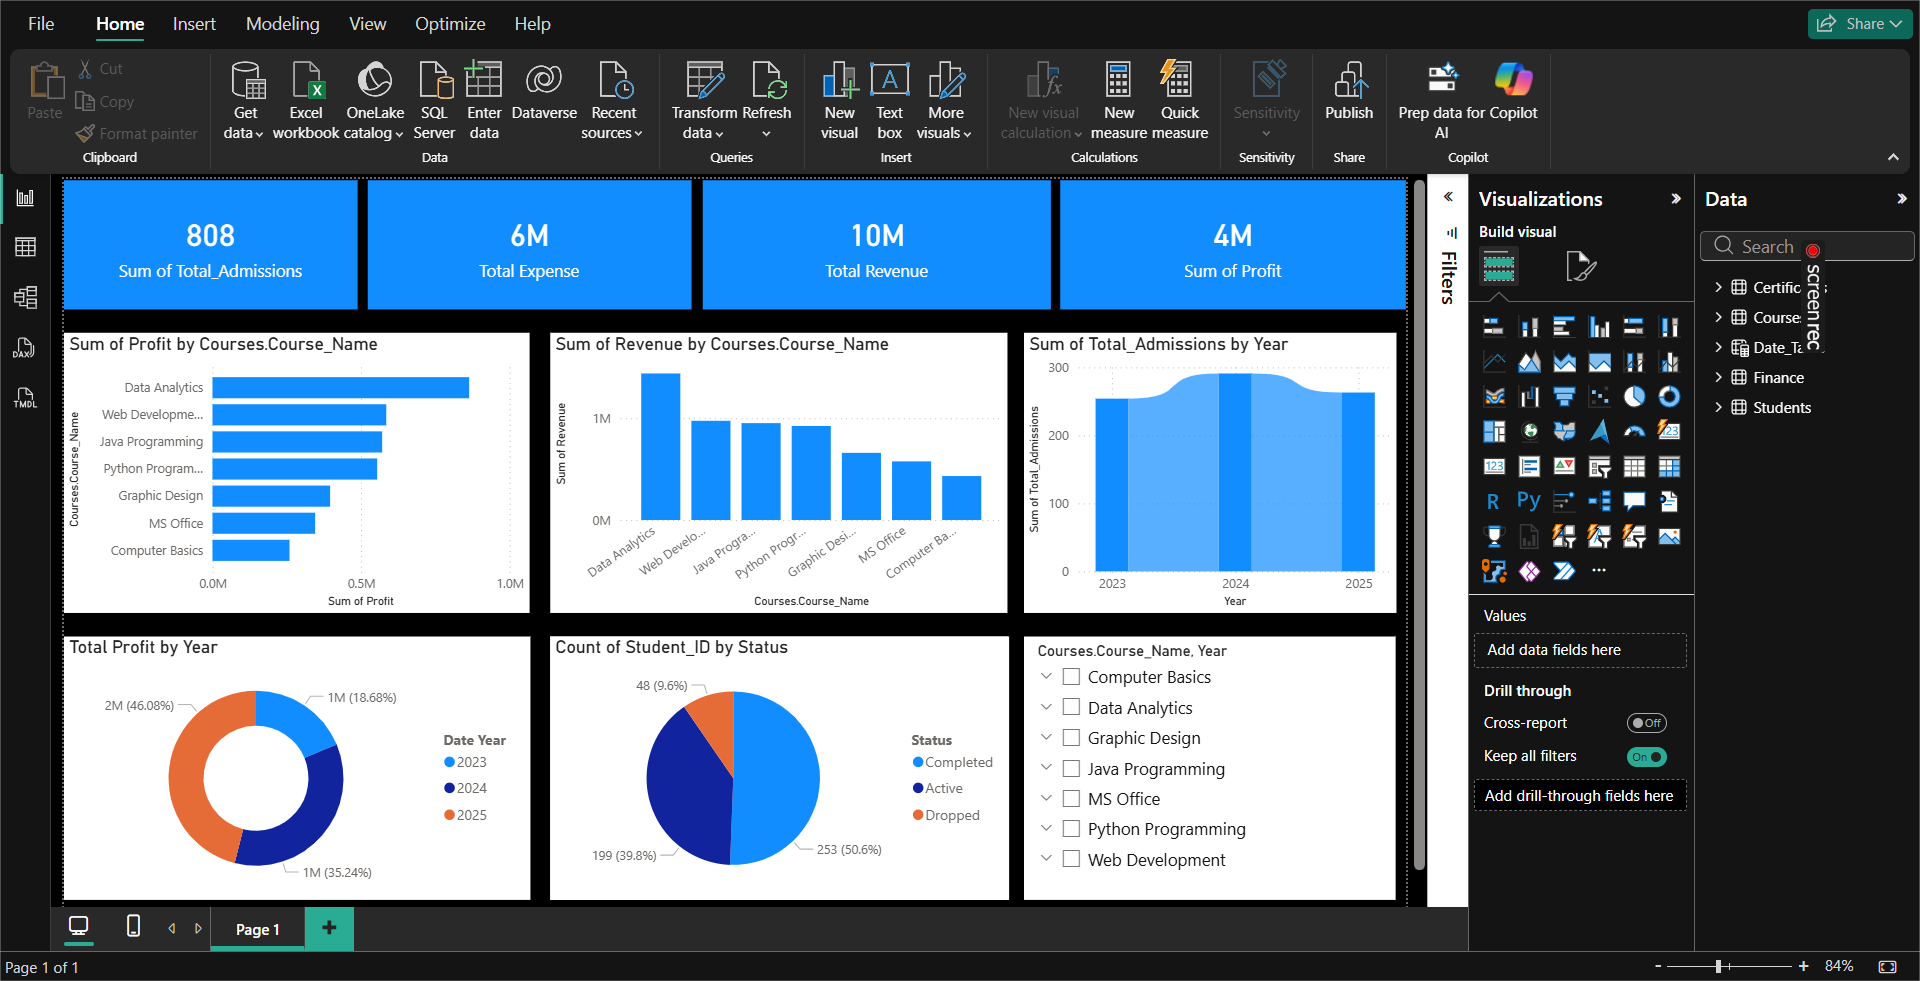

Layout of this report page (visuals, bound fields, positions):
{"tool":"powerbi","page":{"name":"Page 1","canvas":[1280,720],"ordinal":0},"visuals":[{"type":"card","fields":{"Values":["Sum(Finance.Total_Admissions)"]},"box":[0,0,279.9,123.5],"z":0},{"type":"card","fields":{"Values":["Certificates.Total Expense"]},"box":[289.5,0,308.7,123.5],"z":1000},{"type":"card","fields":{"Values":["Certificates.Total Revenue"]},"box":[609.3,0,332.1,123.5],"z":2000},{"type":"card","fields":{"Values":["Sum(Students.Profit)"]},"box":[950.9,0,329.3,123.5],"z":3000},{"type":"clusteredBarChart","fields":{"Category":["Students.Courses.Course_Name"],"Y":["Sum(Students.Profit)"]},"box":[0,146.8,444.1,267.5],"z":4000},{"type":"clusteredColumnChart","fields":{"Category":["Students.Courses.Course_Name"],"Y":["Sum(Students.Revenue )"]},"box":[463.8,146.8,436.4,267.6],"z":5000},{"type":"ribbonChart","fields":{"Y":["Sum(Finance.Total_Admissions)"],"Category":["Date_Table.Date.Variation.Date Hierarchy.Year"]},"box":[915.3,146.8,355.4,267.6],"z":6000},{"type":"slicer","fields":{"Values":["Students.Courses.Course_Name","Date_Table.Date.Variation.Date Hierarchy.Year"]},"box":[915.6,436.6,354.5,278.6],"z":7000},{"type":"areaChart","fields":{"Category":["Students.Gender"],"Y":["Sum(Students.Revenue)"]},"box":[463.8,436.4,436.4,267.6],"z":8000},{"type":"donutChart","fields":{"Category":["Date_Table.Date.Variation.Date Hierarchy.Year","Date_Table.Date.Variation.Date Hierarchy.Quarter","Date_Table.Date.Variation.Date Hierarchy.Month","Date_Table.Date.Variation.Date Hierarchy.Day"],"Y":["Certificates.Total Profit"]},"box":[0,436.4,444.6,267.6],"z":9000},{"type":"pieChart","fields":{"Category":["Students.Status"],"Y":["CountNonNull(Students.Student_ID)"]},"box":[464,436.6,436.6,272.4],"z":10000}]}

Visuals, with their boxes on the page's 1280x720 design canvas (x1, y1, x2, y2). These are canvas units, not pixel positions in the 1920x981 screenshot, which may show the page scaled, cropped or inside an application window:
card - Sum(Finance.Total_Admissions): <box>0,0,280,124</box>
card - Certificates.Total Expense: <box>290,0,598,124</box>
card - Certificates.Total Revenue: <box>609,0,941,124</box>
card - Sum(Students.Profit): <box>951,0,1280,124</box>
clusteredBarChart - Students.Courses.Course_Name x Sum(Students.Profit): <box>0,147,444,414</box>
clusteredColumnChart - Students.Courses.Course_Name x Sum(Students.Revenue ): <box>464,147,900,414</box>
ribbonChart - Sum(Finance.Total_Admissions) x Date_Table.Date.Variation.Date Hierarchy.Year: <box>915,147,1271,414</box>
slicer - Students.Courses.Course_Name x Date_Table.Date.Variation.Date Hierarchy.Year: <box>916,437,1270,715</box>
areaChart - Students.Gender x Sum(Students.Revenue): <box>464,436,900,704</box>
donutChart - Date_Table.Date.Variation.Date Hierarchy.Year x Date_Table.Date.Variation.Date Hierarchy.Quarter: <box>0,436,445,704</box>
pieChart - Students.Status x CountNonNull(Students.Student_ID): <box>464,437,901,709</box>
